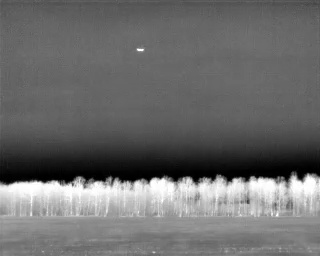DRONE: (133, 44, 148, 56)
